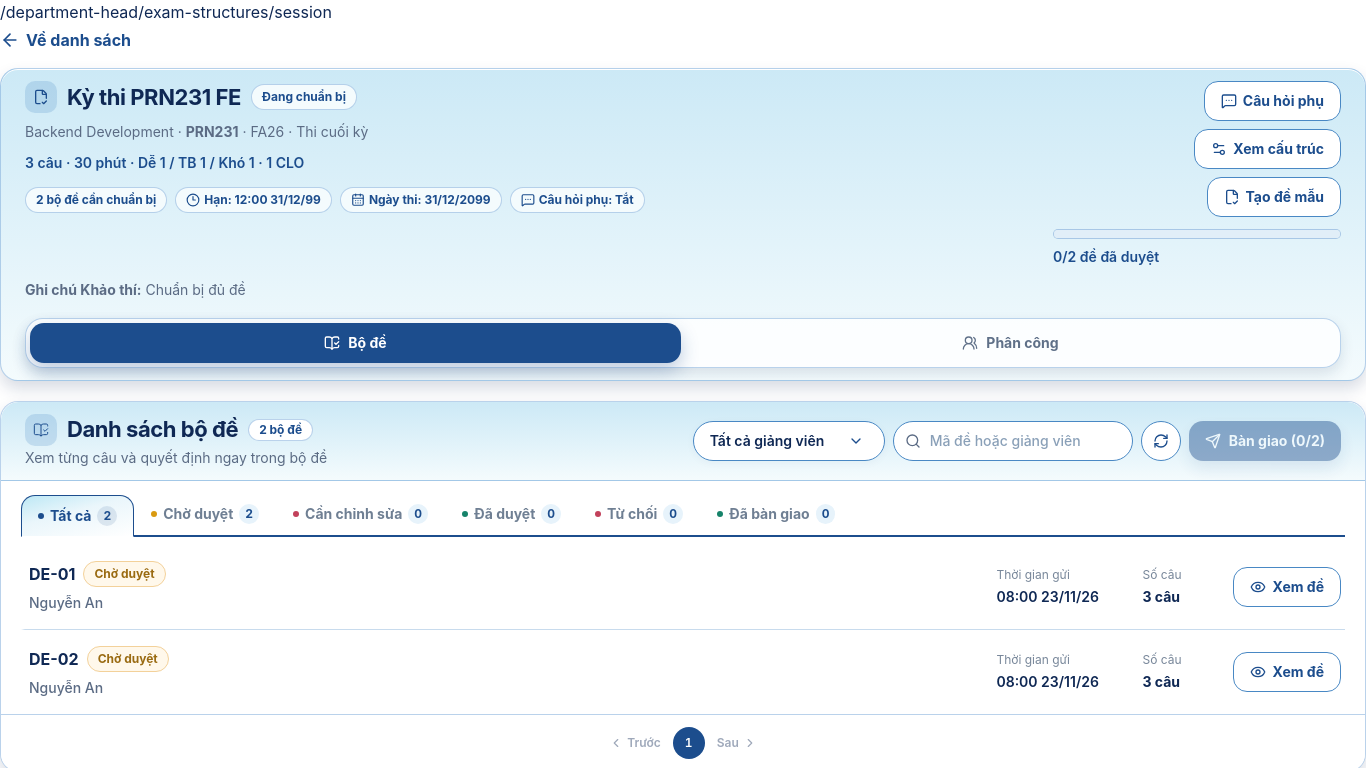
Chuẩn bị đề thi trưởng bộ môn › keeps the current paper pending when approval fails
Click the button with aria-label "Xem bộ đề DE-01": (52, 574) [21,545,1345,630]
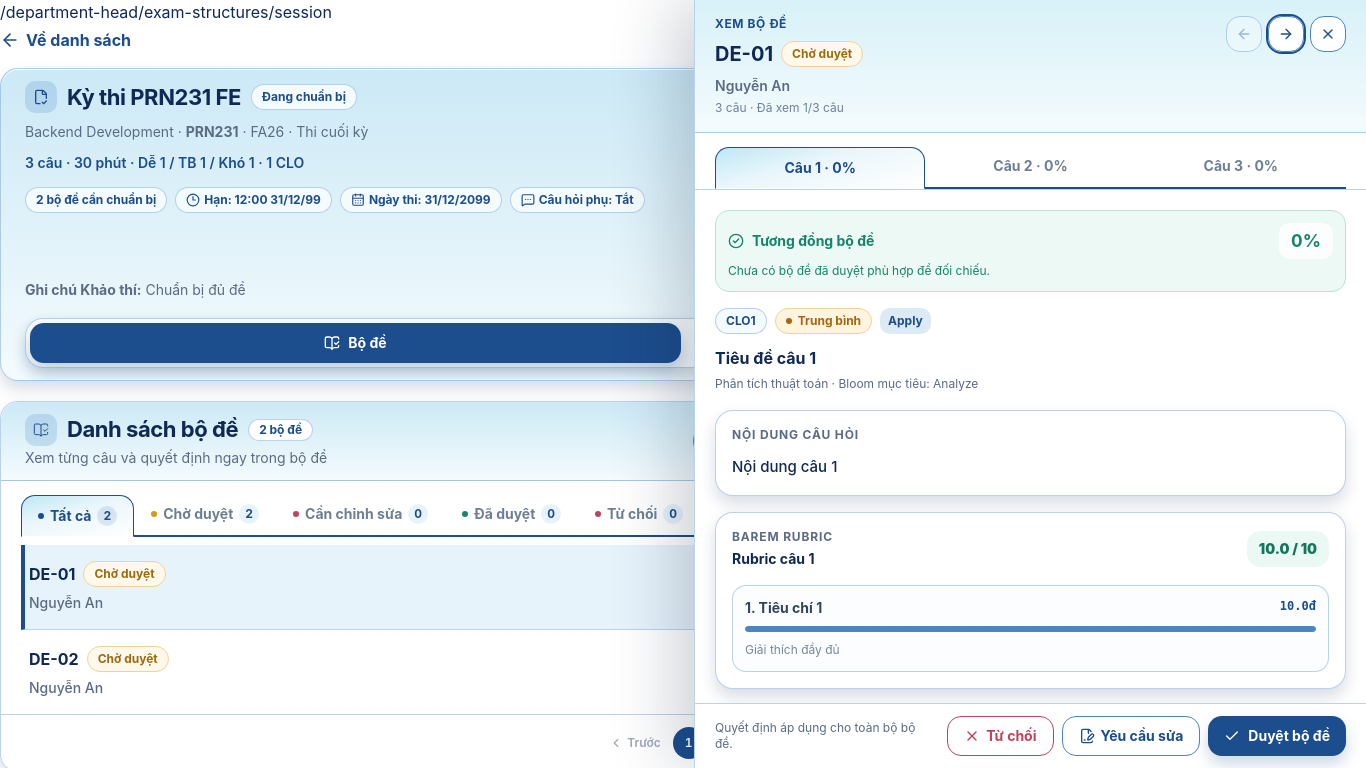
expect the button "Duyệt bộ đề" is enabled: met
Click the button "Duyệt bộ đề": (1277, 736) [1208,716,1346,756]
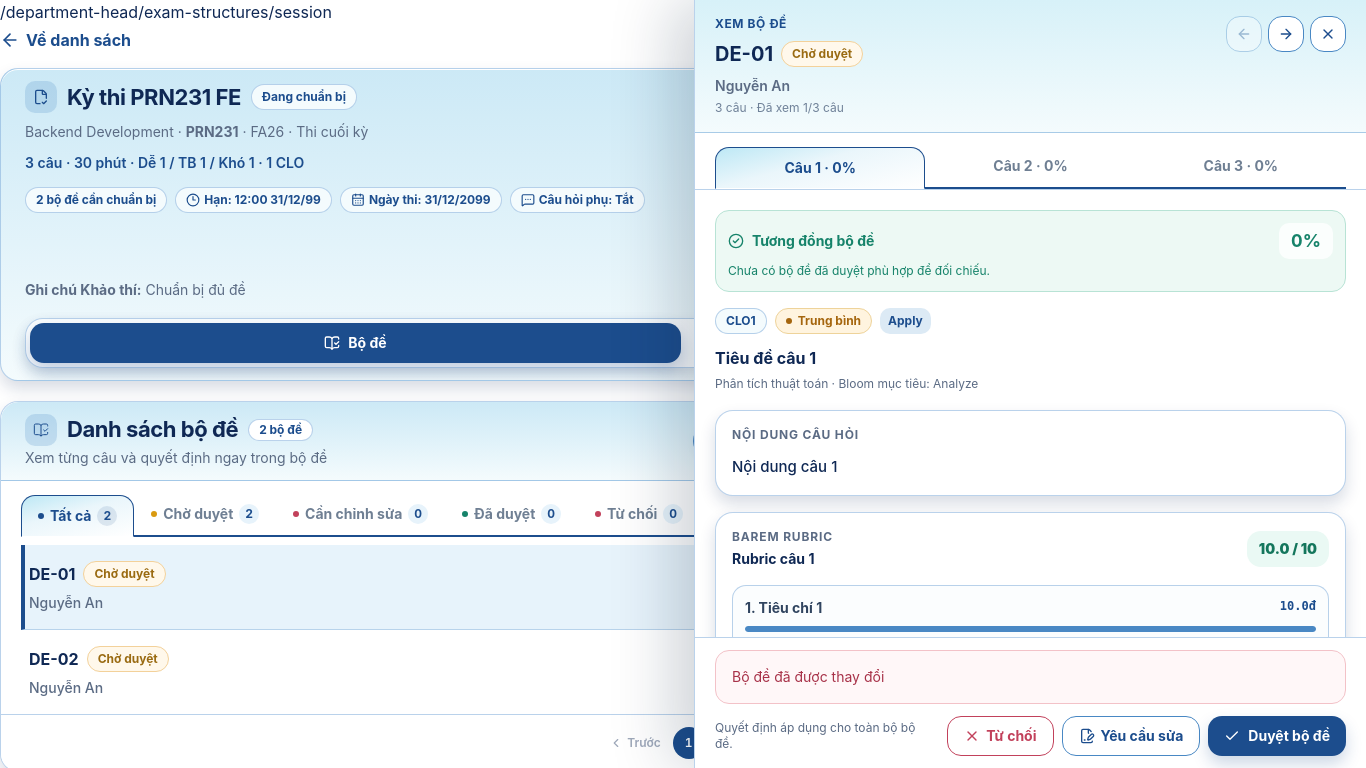
expect the heading "DE-01" is shown: met, box [715,40,773,68]
expect the text "Chờ duyệt" below "Xem bộ đề" is shown: met, box [792,46,852,61]
expect the message reads "Bộ đề đã được thay đổi": met, box [732,668,884,685]
